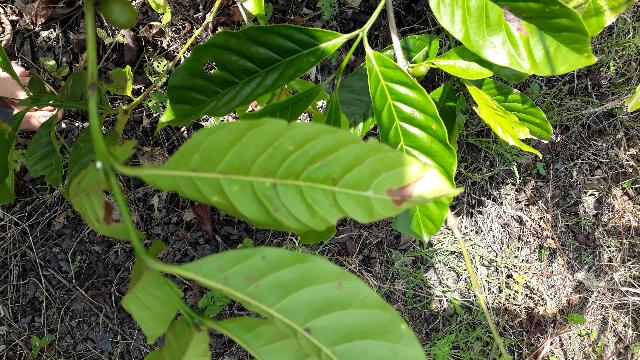red_spider_mite: (178, 131, 504, 239)
